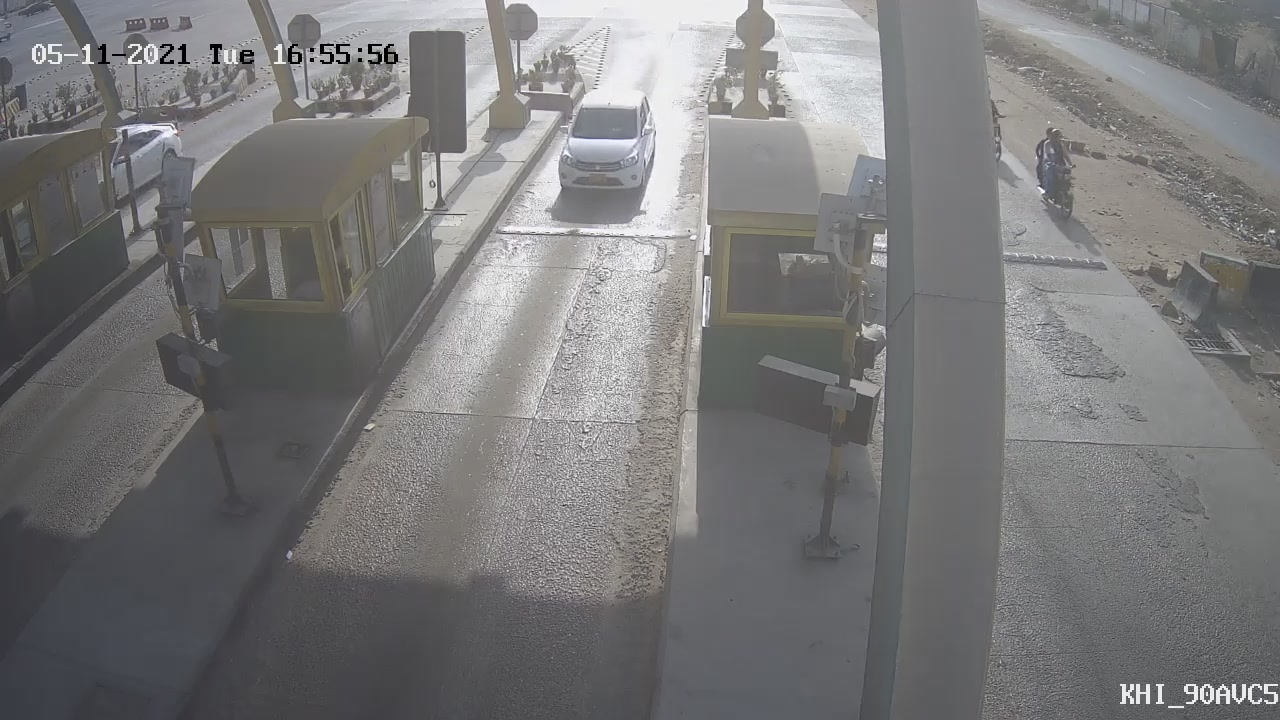F1: (527, 72, 676, 229)
